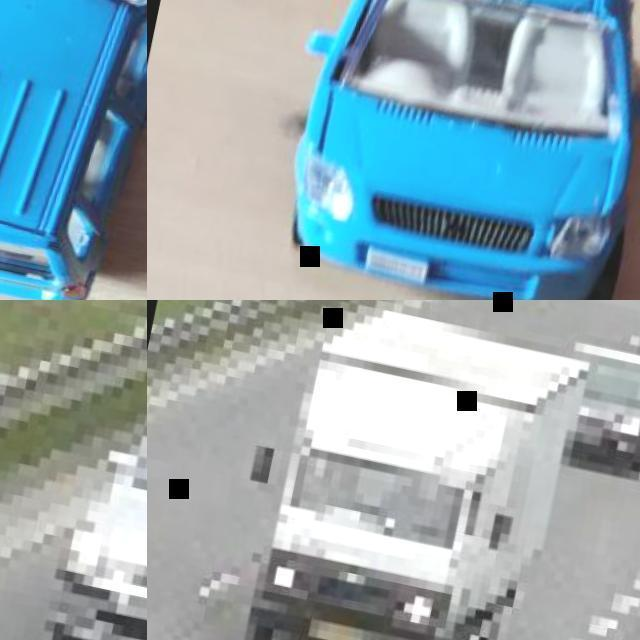car: (0, 56, 136, 296)
